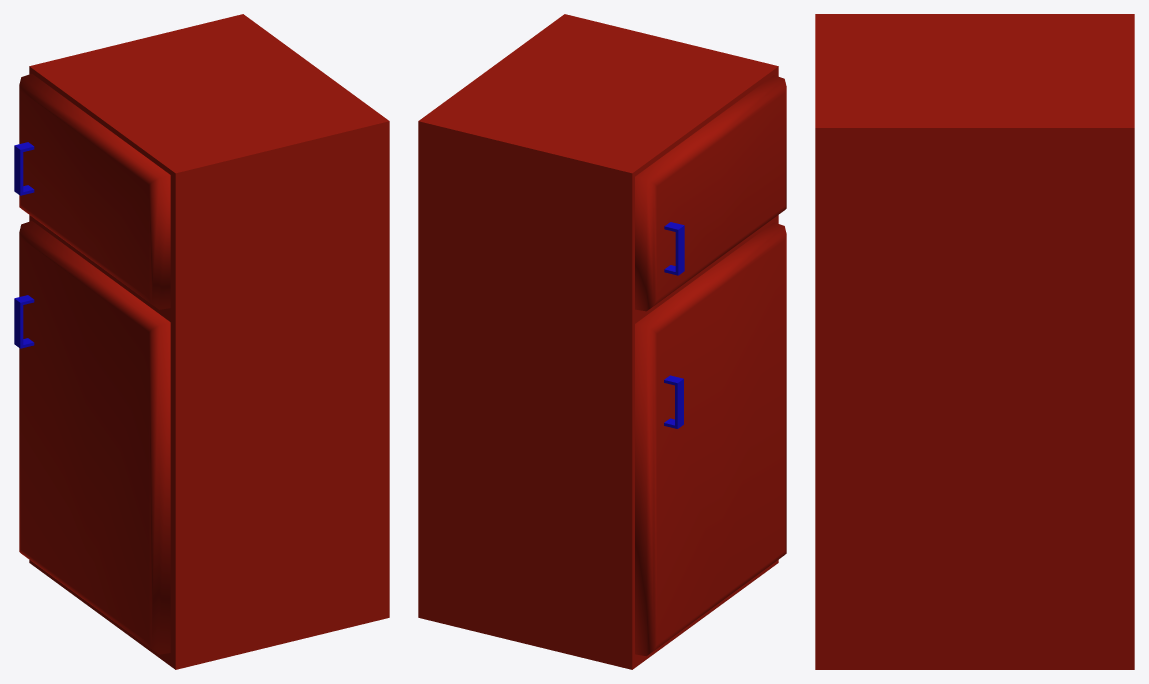
File: P_Frigo_Colored_Unbreakable.fbx
The picture shows the model from 3 angles, left to right: view 1: azimuth 30°, elevation 25°; view 2: azimuth 150°, elevation 25°; view 3: azimuth 270°, elevation 25°; orthographic projection. The views are drawn at different scales.
Parts seen in each view (by area): view 1: P_Frigo_Colored_Unbreakable; view 2: P_Frigo_Colored_Unbreakable; view 3: P_Frigo_Colored_Unbreakable.
Boxes of the visible parts, x1=… form: P_Frigo_Colored_Unbreakable: x1=14, y1=14, x2=389, y2=669; P_Frigo_Colored_Unbreakable: x1=418, y1=14, x2=786, y2=669; P_Frigo_Colored_Unbreakable: x1=815, y1=14, x2=1134, y2=669.
Bounding box in the file's own units: 29.59 × 57.4 × 30.68.
